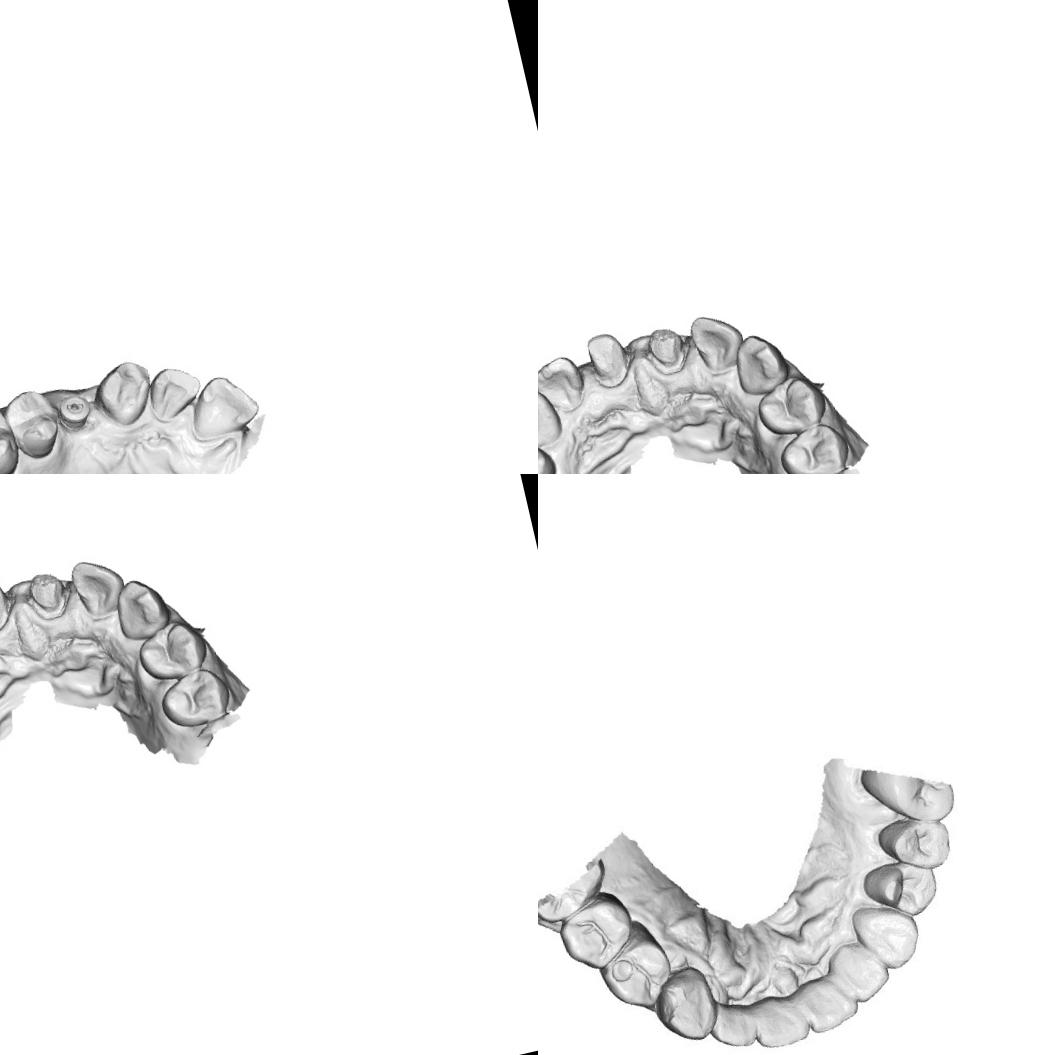canine: (648, 957, 726, 1051), (850, 898, 926, 976), (88, 356, 160, 432), (726, 328, 794, 400), (108, 573, 174, 645), (538, 382, 566, 449)
crown: (581, 327, 636, 392), (640, 322, 693, 378), (22, 568, 74, 622), (0, 571, 17, 636)
implant_minus: (53, 388, 98, 436)
incisor: (179, 368, 265, 447), (684, 306, 752, 381), (65, 552, 133, 626), (142, 359, 208, 427), (800, 973, 868, 1038), (832, 938, 894, 1008), (750, 988, 816, 1050), (702, 989, 763, 1055), (538, 350, 592, 419)
molar: (0, 393, 34, 474)
premolar: (549, 886, 642, 978), (594, 928, 677, 1018), (153, 663, 236, 733), (752, 369, 832, 440), (133, 614, 213, 685), (2, 384, 68, 464), (867, 852, 942, 920), (882, 810, 956, 874), (772, 418, 855, 474)
